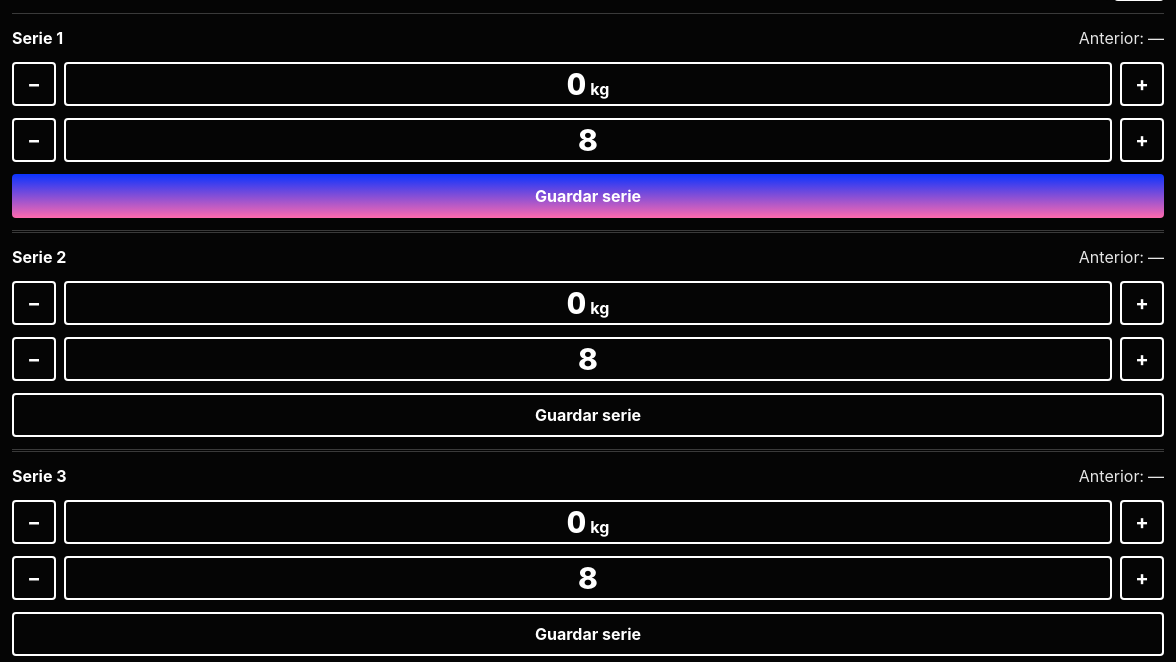
Scenario: LoggingSection — 14 ciclorama: amanecer y fila activa (R15, R16, R17) › solo la primera fila editable lleva el filo; al guardar, amanece y el filo avanza
Expected: the heading "Serie 1" is shown, [12,26,63,50]
Click the 1st button "Guardar serie".
click(588, 196)  # box [12,174,1164,218]
(page scrolled)
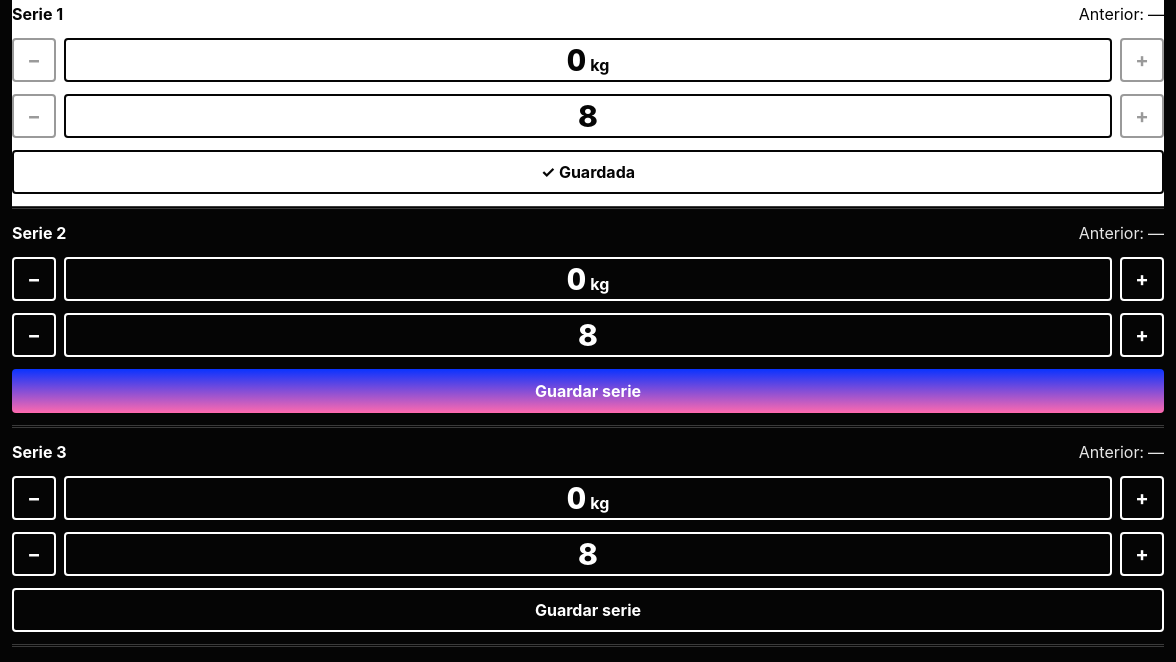
Now the button "✓ Guardada" is shown, box [12,150,1164,194]
